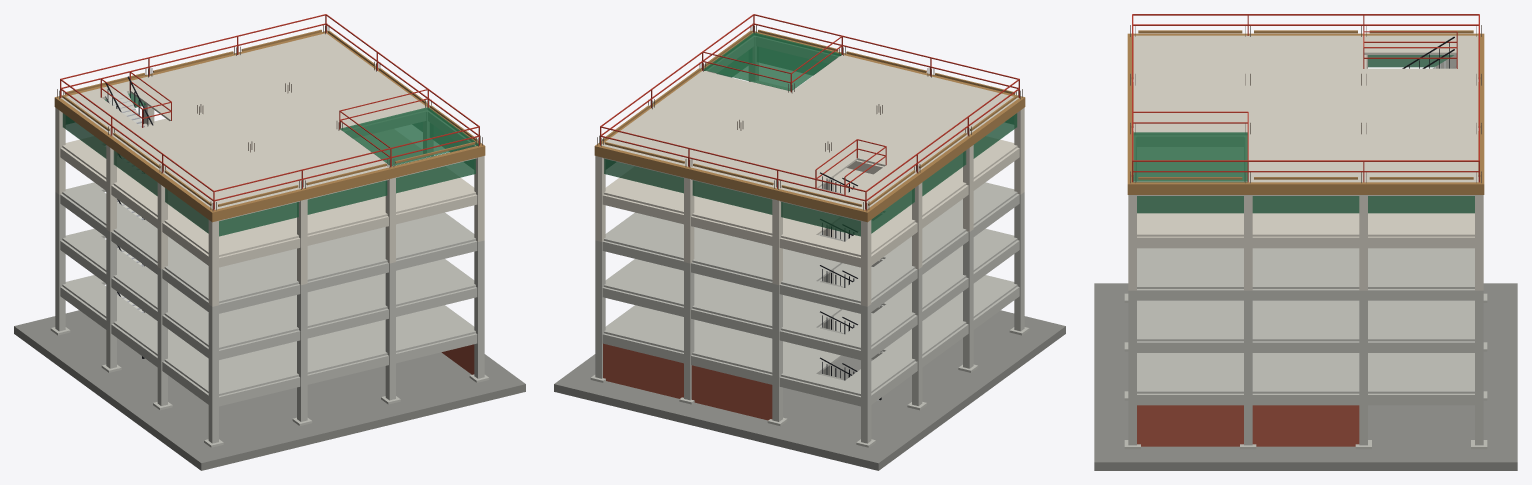
Rendered from building_frame_tall.glb.
3 views of the same model, side by side, from view 1: azimuth 30°, elevation 25°; view 2: azimuth 150°, elevation 25°; view 3: azimuth 270°, elevation 25° (orthographic). The views are drawn at different scales.
Visible parts, largest first — view 1: BuildingFrameTall; view 2: BuildingFrameTall; view 3: BuildingFrameTall.
Boxes of the visible parts, x1,y1,x2,y2 form: BuildingFrameTall: [14, 14, 525, 470]; BuildingFrameTall: [554, 14, 1065, 470]; BuildingFrameTall: [1094, 14, 1517, 470].
Size of the model in its own units: 22 by 16.85 by 22.
